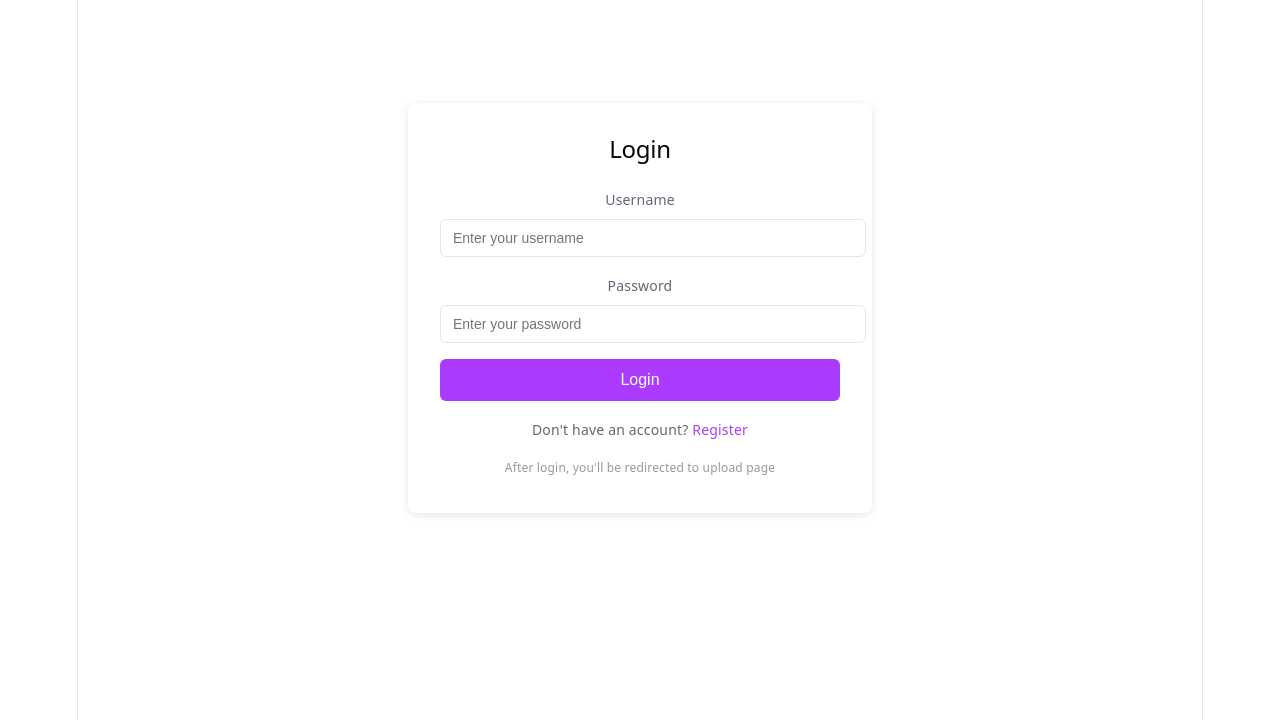
Scenario: AuthForm › shows error when fields are empty
Click the button "Login" at (640, 380), box [440,359,840,401]
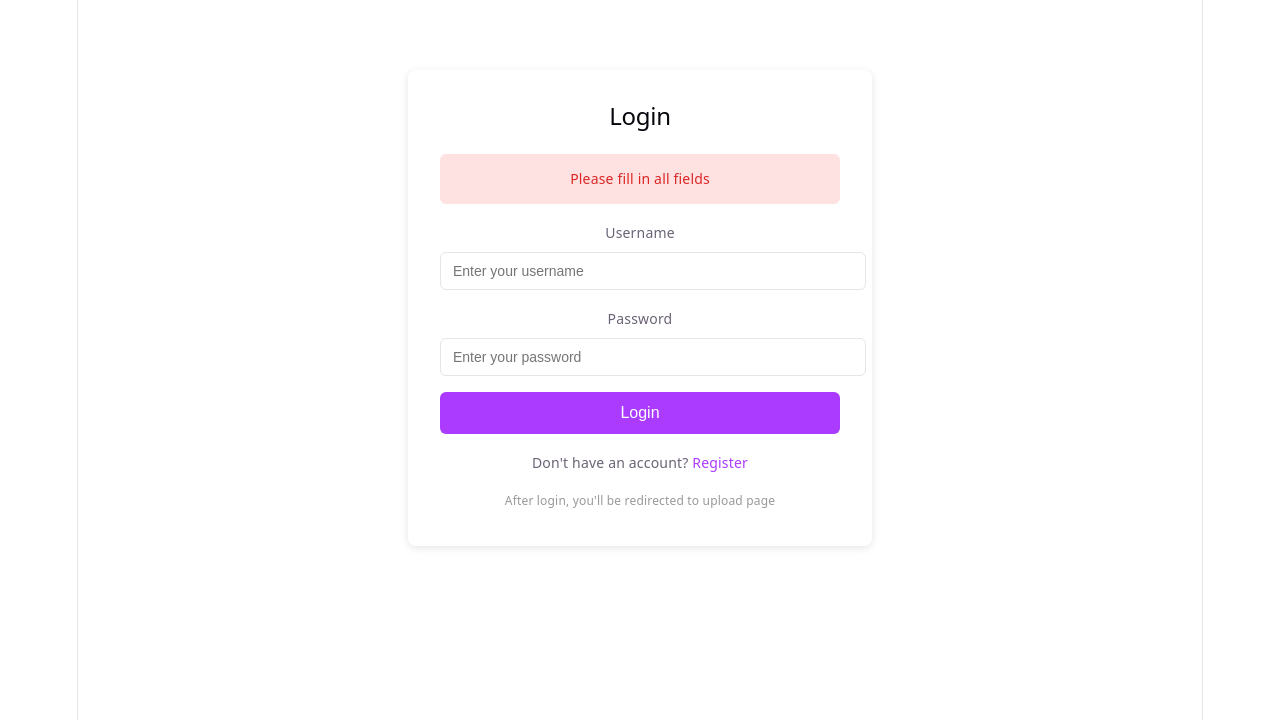
Check: the text "Please fill in all fields" is shown, box [440,154,840,204]
